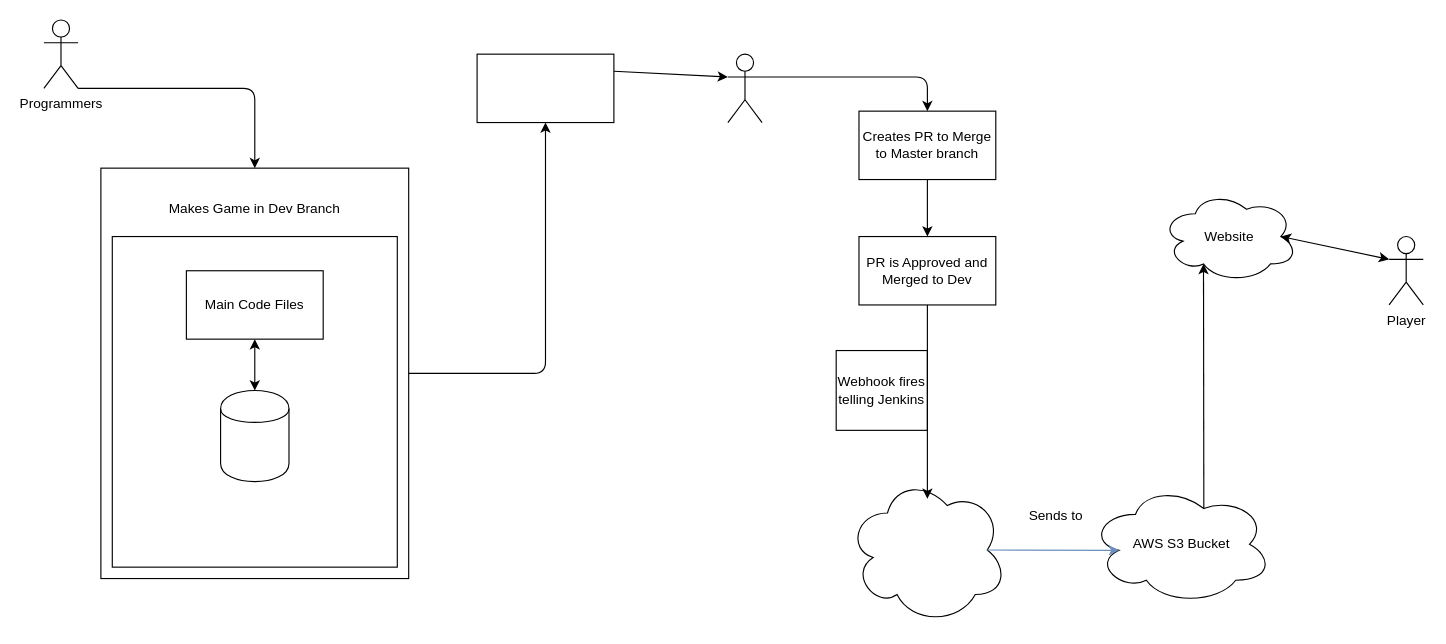
Image size: 1446x644. Some labels were removed from this diagram. Each missing label, with the centre of its shape:
"Jenkins - Builds the game" belongs at point 926,549.
"Local Flat-File Database" belongs at point 254,435.
"Programming Lead" belongs at point 744,88.
"When a Deadline Approaches as needed" belongs at point 545,88.
